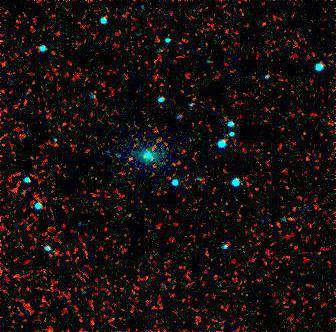star: (117, 141, 147, 171)
